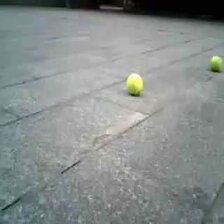tennis: (127, 73, 143, 95), (211, 55, 222, 72)
